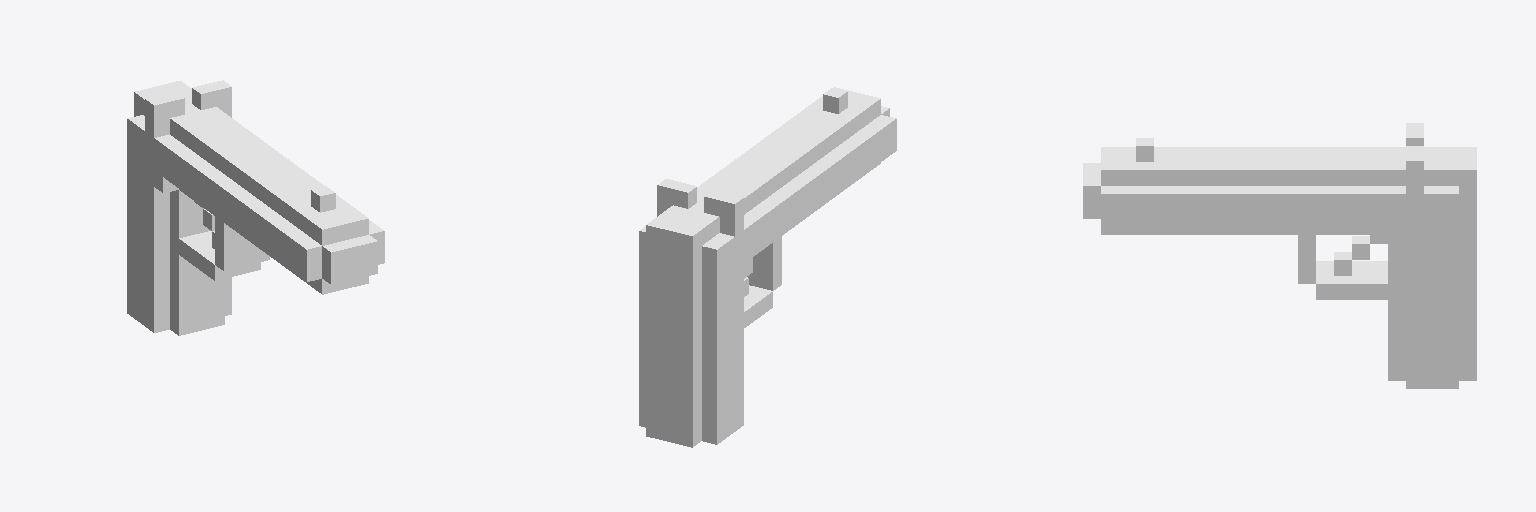
Rendered from arma.obj.
The picture shows the model from 3 angles: view 1: azimuth 30°, elevation 25°; view 2: azimuth 150°, elevation 25°; view 3: azimuth 270°, elevation 25°; orthographic projection.
Visible parts, largest first — view 1: object 1; view 2: object 1; view 3: object 1.
Boxes of the visible parts, <box> form: object 1: <box>127,80,384,335</box>; object 1: <box>639,87,896,447</box>; object 1: <box>1083,123,1476,388</box>.
Bounding box in the file's own units: 0.5 × 1.4 × 2.2.